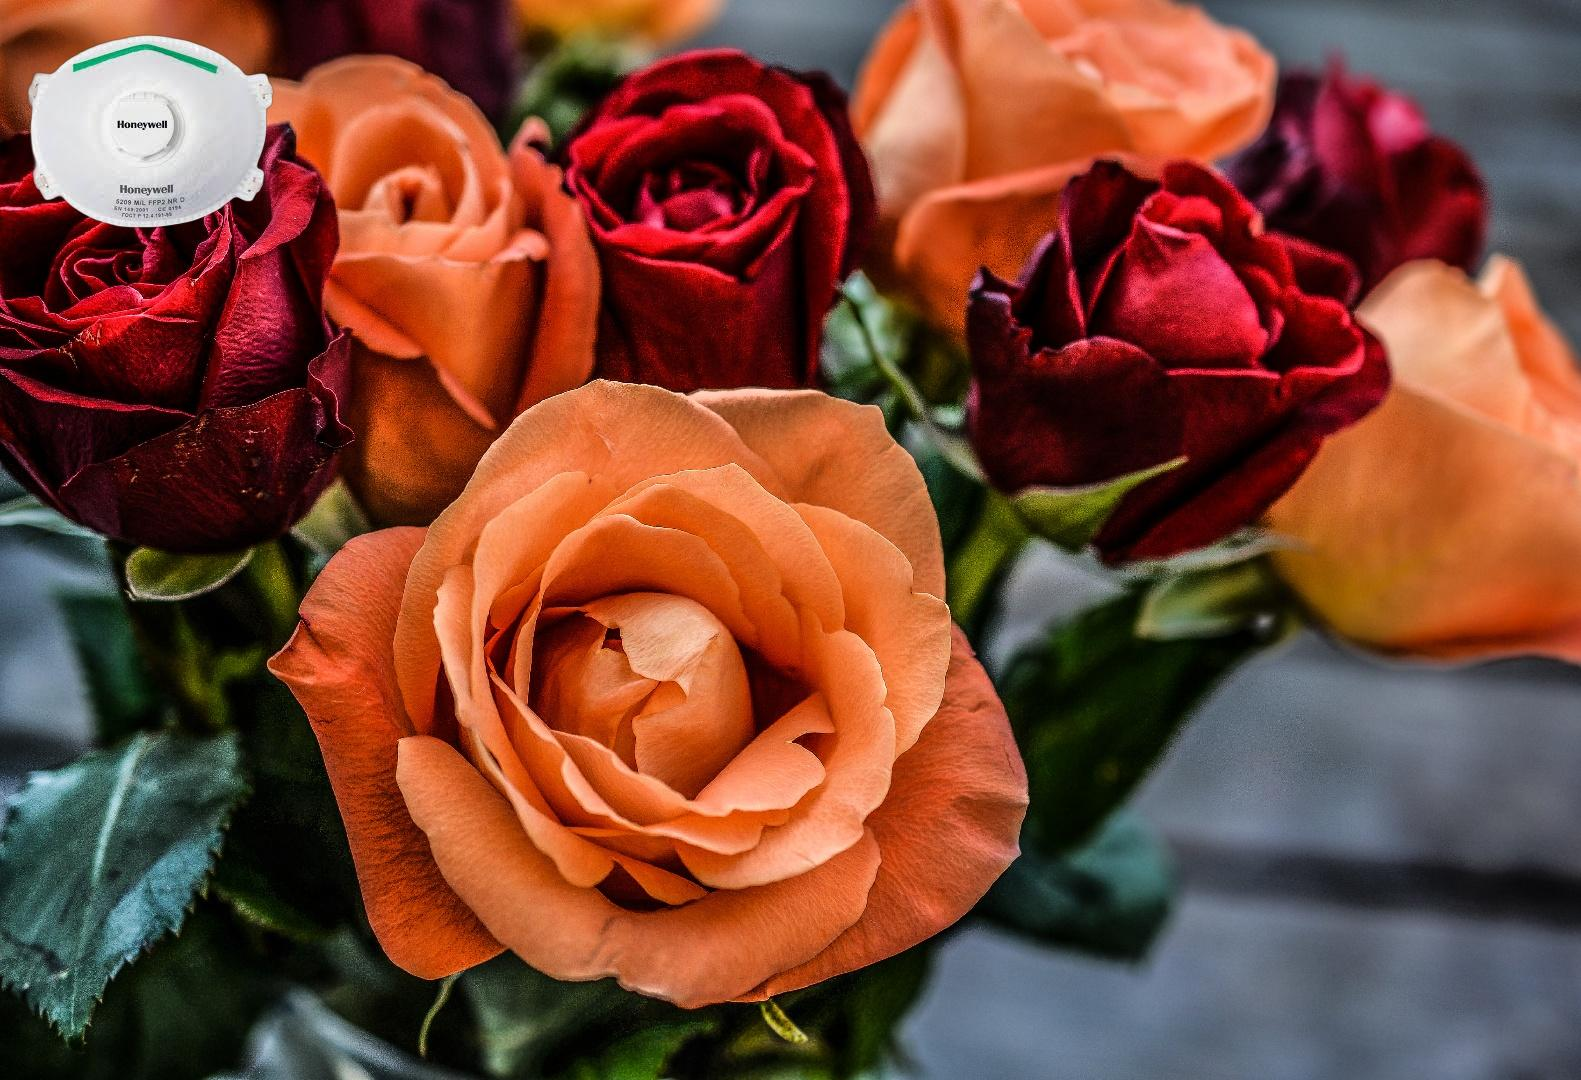trash: (24, 32, 276, 229)
